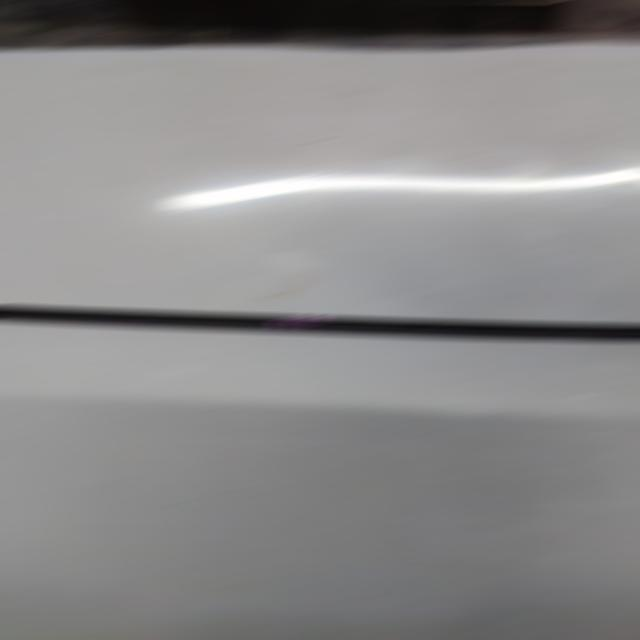pink: (272, 316, 324, 327)
